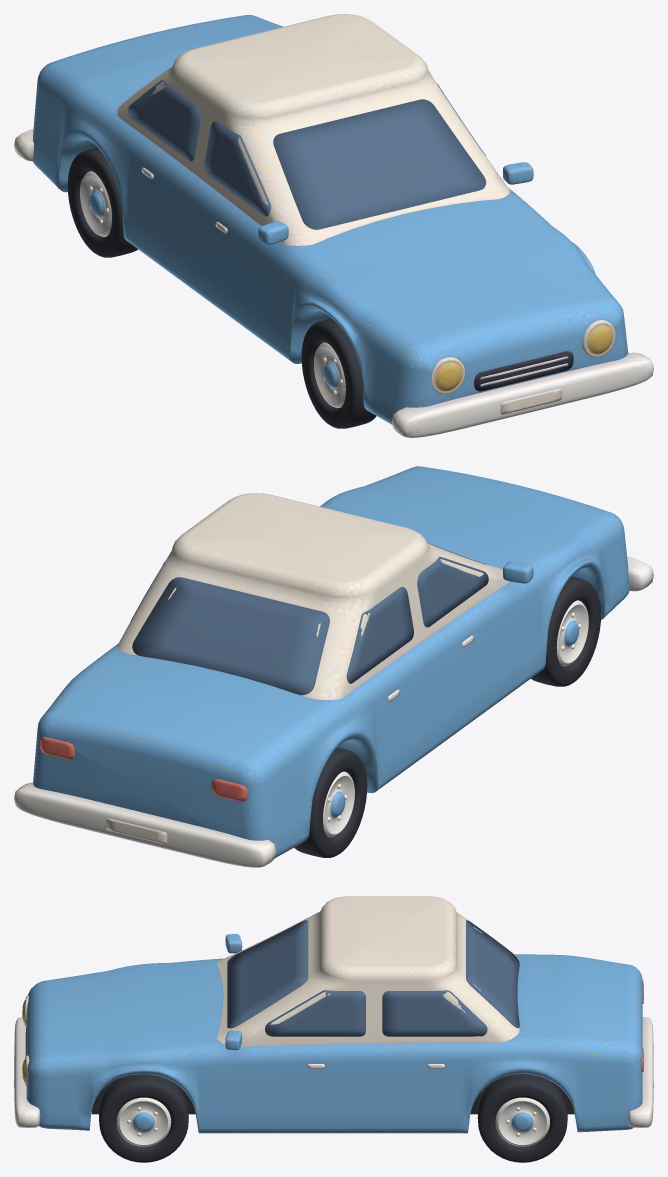
File: car-sedan.glb
3 views of the same model, one above another, from view 1: azimuth 30°, elevation 25°; view 2: azimuth 150°, elevation 25°; view 3: azimuth 270°, elevation 25° (orthographic). The views are drawn at different scales.
Visible parts, largest first — view 1: sedan_body, sedan_windows, sedan_wheel_fr, sedan_wheel_rr; view 2: sedan_body, sedan_windows, sedan_wheel_rr, sedan_wheel_fr; view 3: sedan_body, sedan_windows, sedan_wheel_rl, sedan_wheel_fl.
Part boxes in pixels (x1,y1,x2,y2): sedan_body: (14,14,653,437); sedan_windows: (128,79,486,229); sedan_wheel_fr: (301,318,376,428); sedan_wheel_rr: (67,147,137,257); sedan_body: (14,466,653,867); sedan_windows: (130,542,488,695); sedan_wheel_rr: (294,747,367,857); sedan_wheel_fr: (531,576,600,686); sedan_body: (14,896,653,1133); sedan_windows: (227,920,519,1036); sedan_wheel_rl: (477,1074,567,1162); sedan_wheel_fl: (99,1074,188,1162).
Bounding box in the file's own units: 1.86 × 1.49 × 4.7.
Materials: 14 (1 with a texture image).
